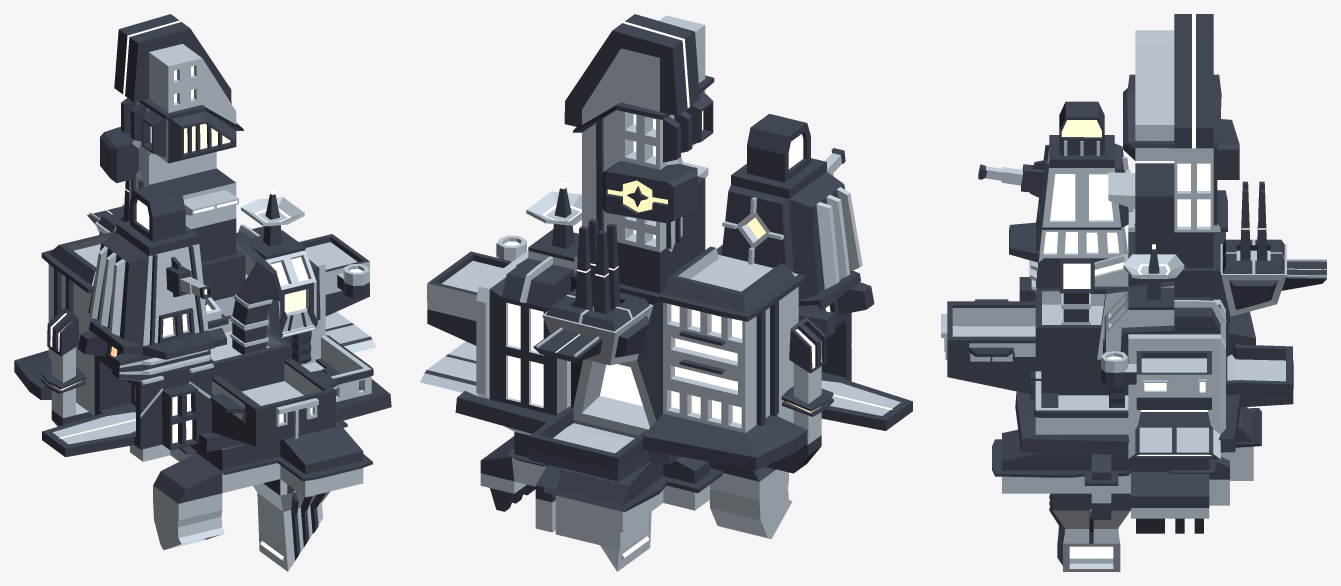
The picture shows the model from 3 angles, left to right: view 1: azimuth 30°, elevation 25°; view 2: azimuth 150°, elevation 25°; view 3: azimuth 270°, elevation 25°; orthographic projection. The views are drawn at different scales.
Visible parts, largest first — view 1: Cube.001; view 2: Cube.001; view 3: Cube.001.
Part boxes in pixels (bbox=[...]): Cube.001: bbox=[14, 14, 391, 571]; Cube.001: bbox=[420, 14, 912, 571]; Cube.001: bbox=[941, 14, 1326, 571].
Bounding box in the file's own units: 5.33 × 7.55 × 5.13.
